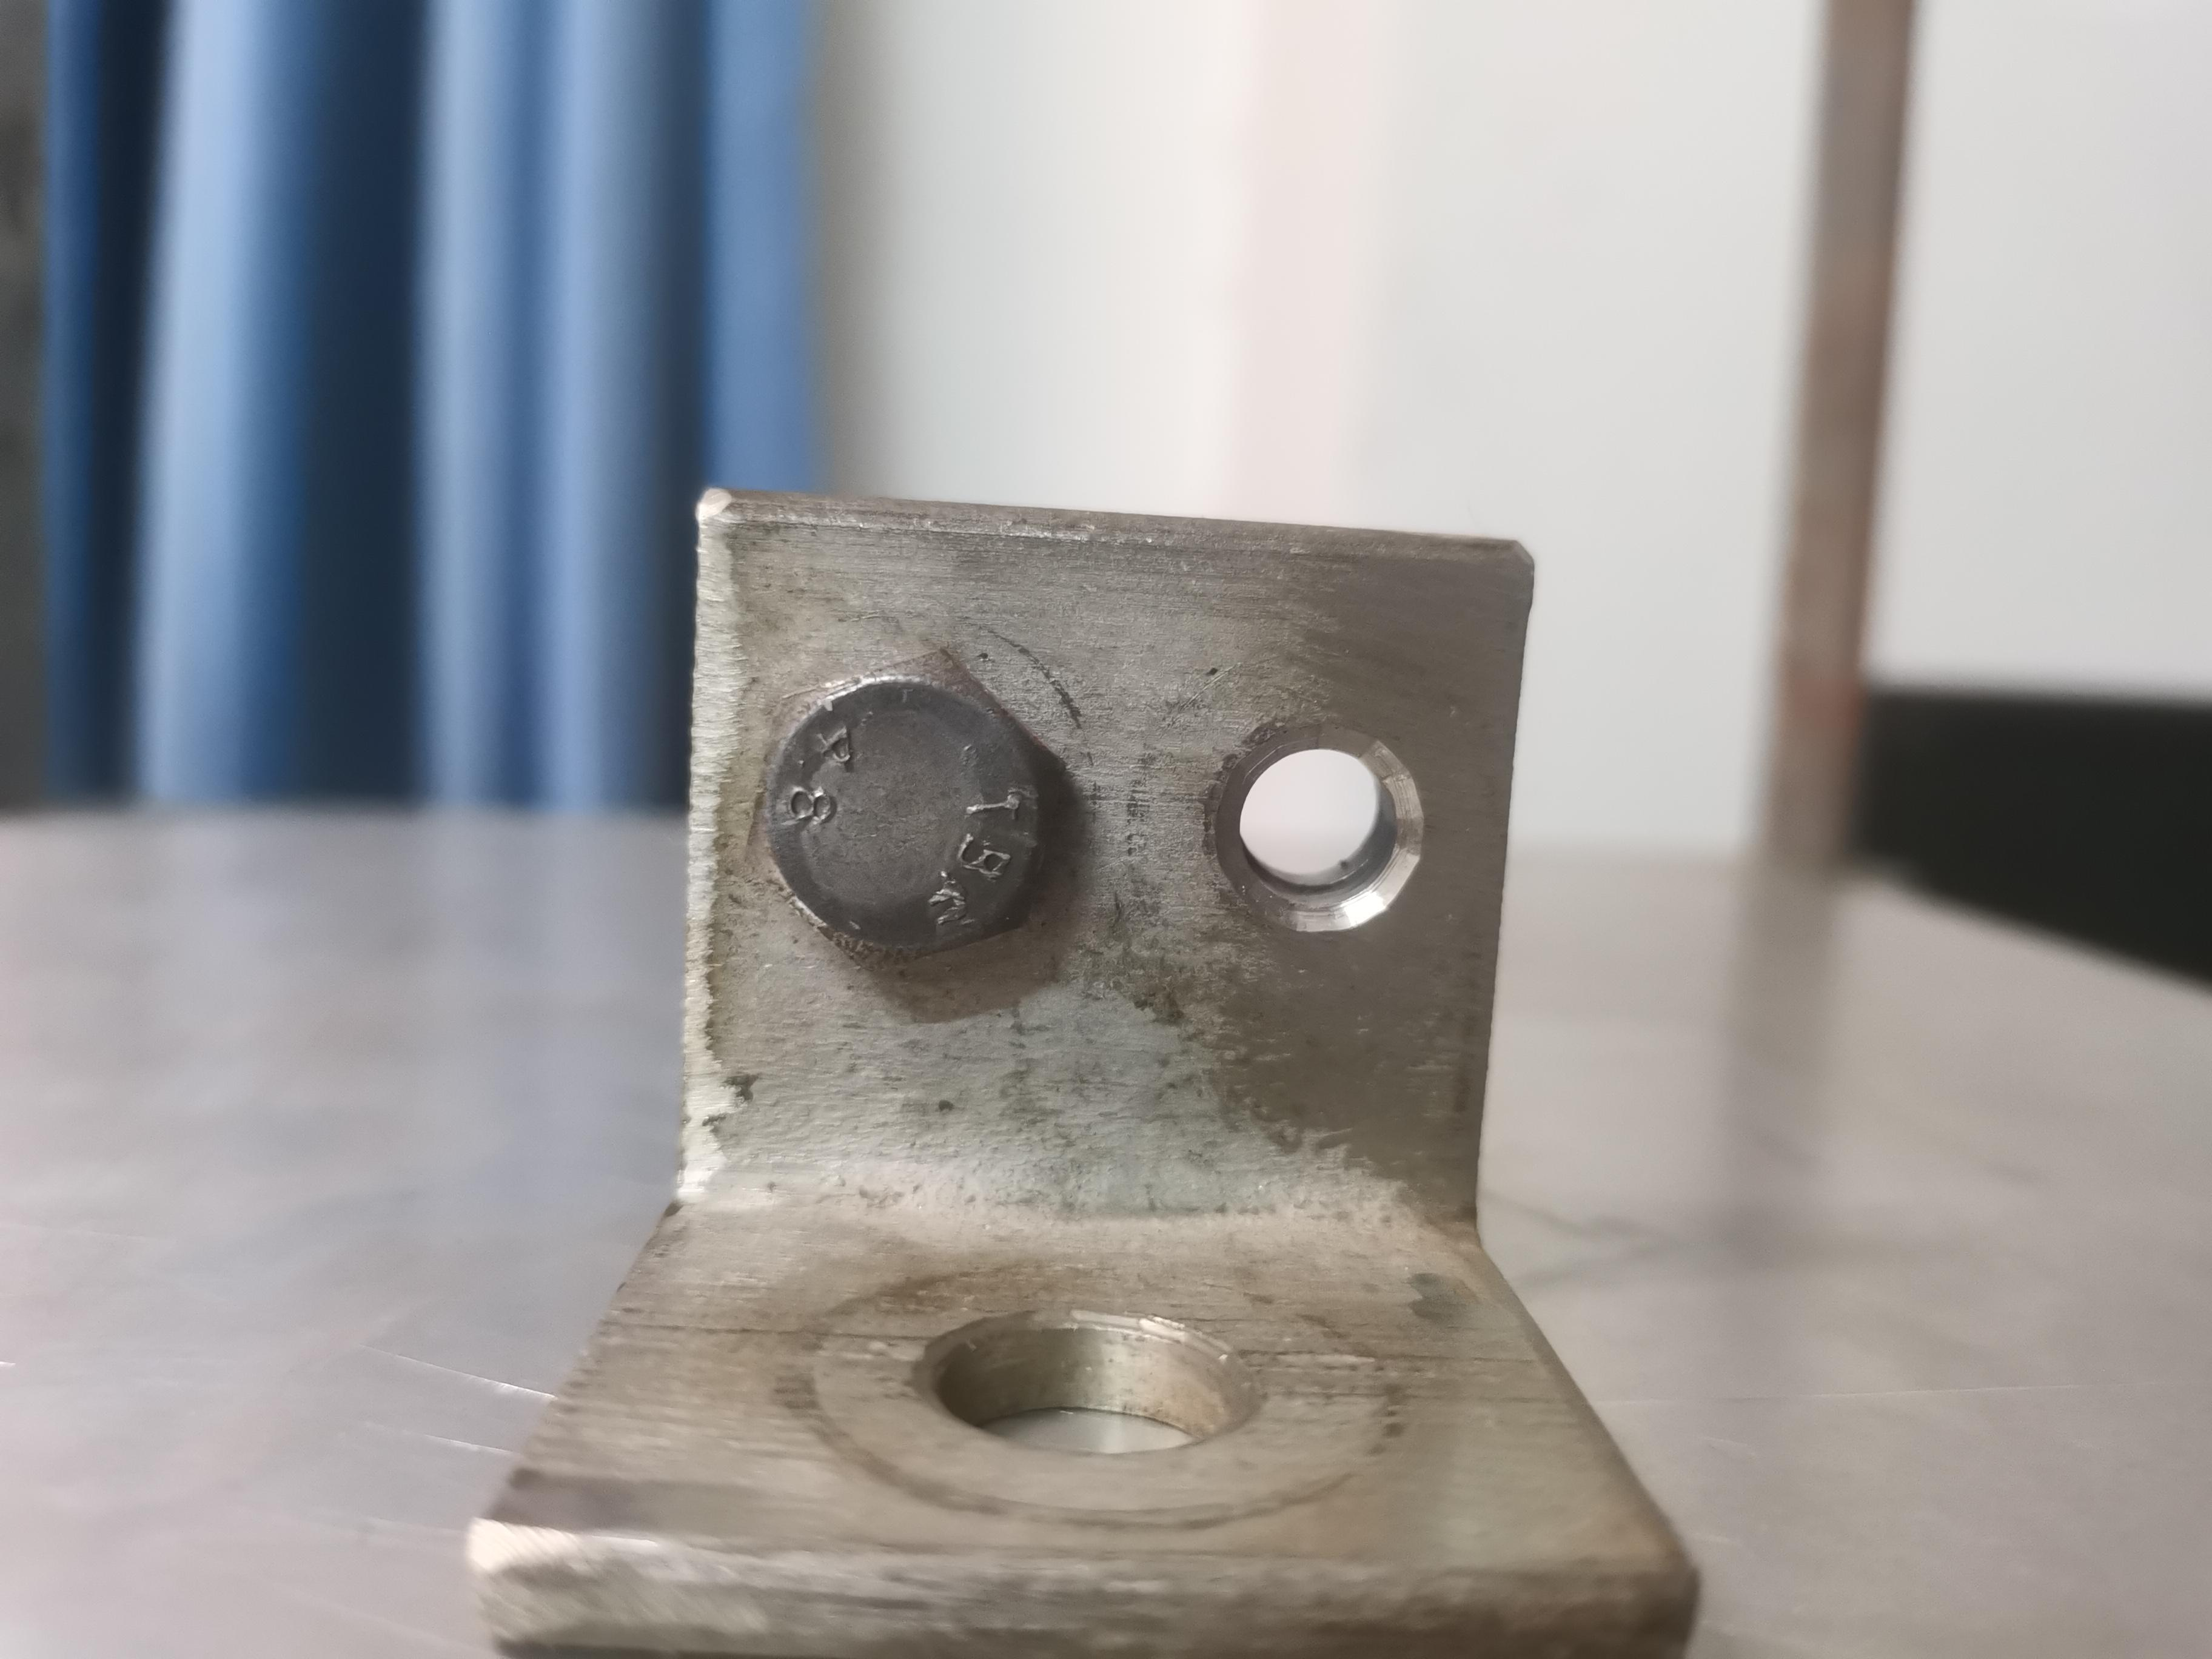bolt_a: (740, 647, 1075, 976)
